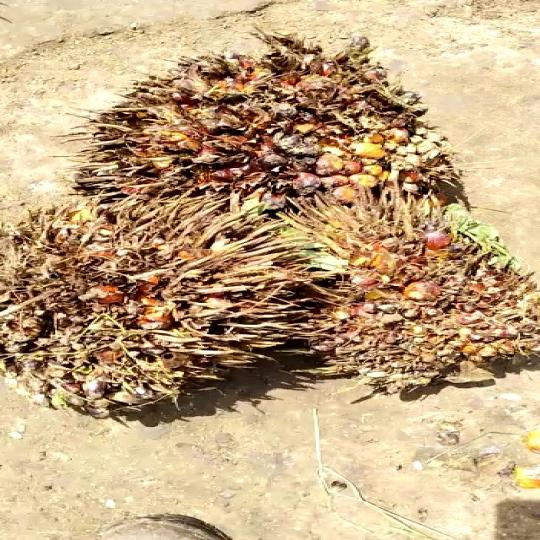terlalu masak: (61, 54, 453, 223), (0, 193, 295, 409), (242, 197, 540, 396)
